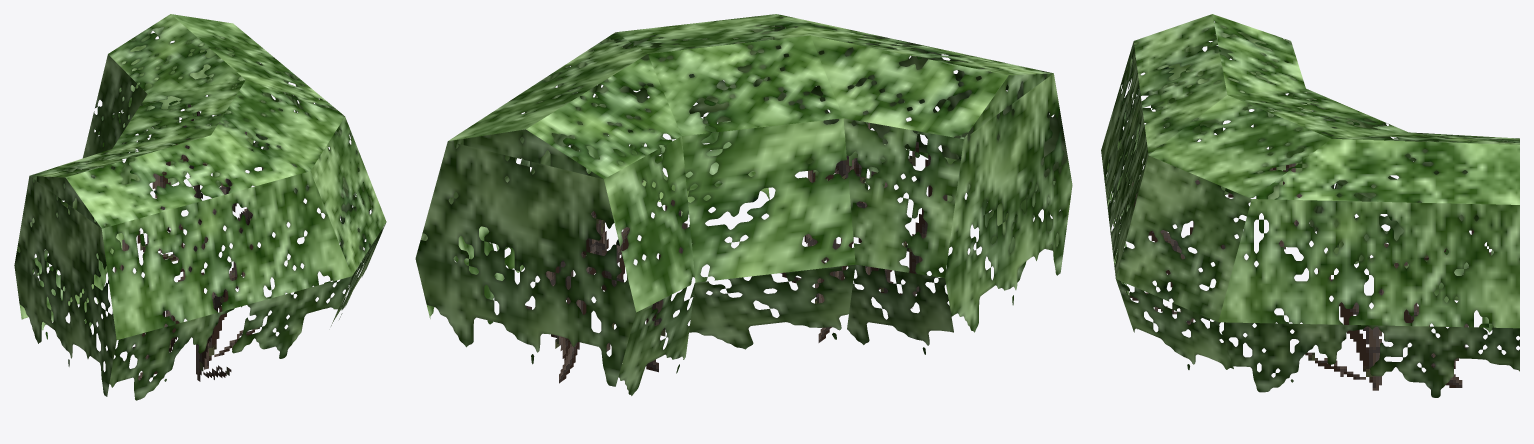
Rendered from bush_round_corner_roots_summer.fbx.
3 renders of one model, left to right at view 1: azimuth 30°, elevation 25°; view 2: azimuth 150°, elevation 25°; view 3: azimuth 270°, elevation 25°, orthographic. The views are drawn at different scales.
Parts seen in each view (by area): view 1: bush_round_corner_roots_summer; view 2: bush_round_corner_roots_summer; view 3: bush_round_corner_roots_summer.
Boxes of the visible parts, bbox=[...] form: bush_round_corner_roots_summer: bbox=[14, 14, 386, 400]; bush_round_corner_roots_summer: bbox=[415, 14, 1072, 395]; bush_round_corner_roots_summer: bbox=[1101, 14, 1519, 397].
Bounding box in the file's own units: 136 × 87.65 × 135.
Materials: 2 (2 with a texture image).
